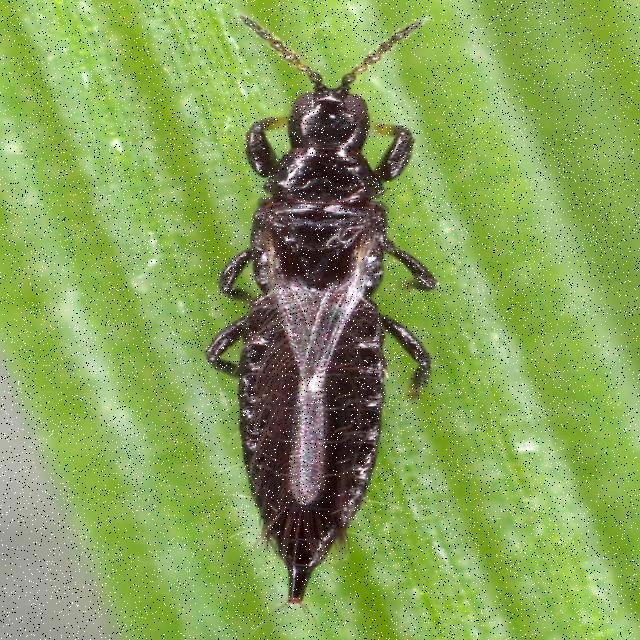Thrips: (135, 59, 498, 622)
